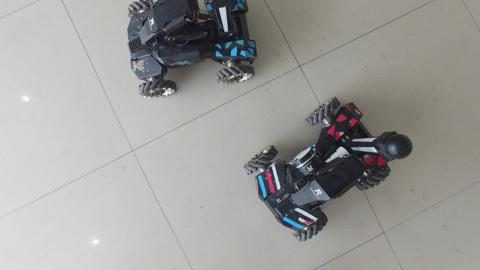chariot: (230, 84, 420, 244), (118, 1, 256, 108)
